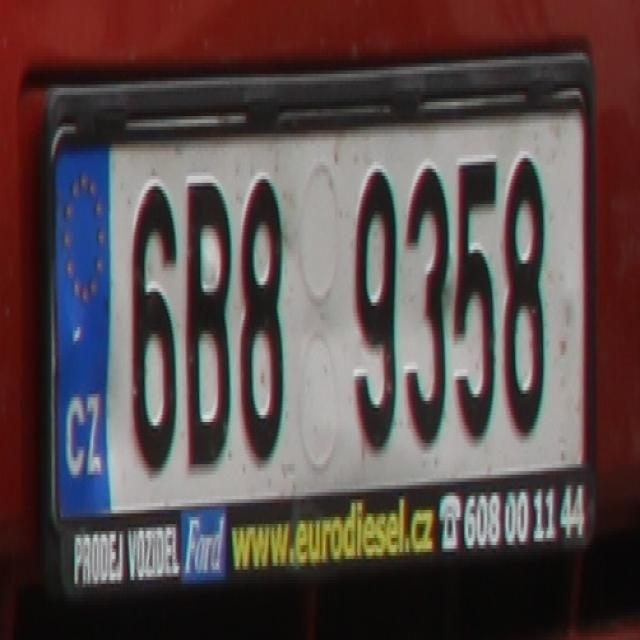3: (404, 165, 449, 443)
5: (454, 151, 497, 443)
6: (130, 179, 179, 472)
8: (238, 165, 284, 461), (501, 158, 546, 436)
9: (350, 165, 398, 457)
B: (182, 176, 228, 475)
